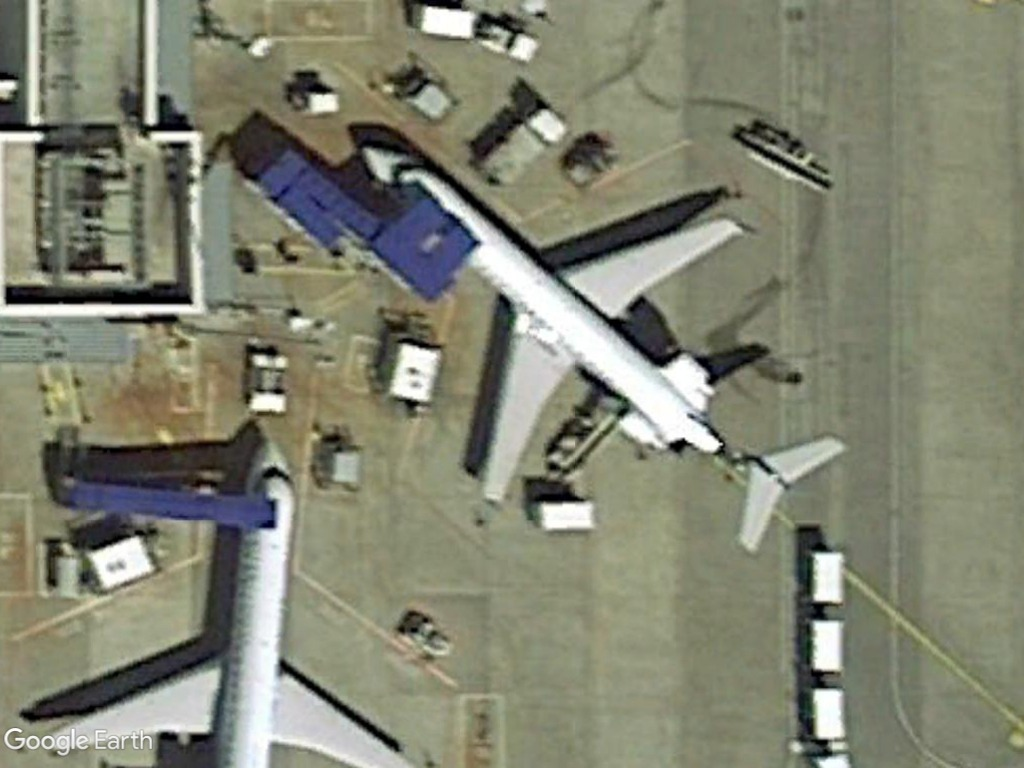chartered: (353, 135, 848, 553)
